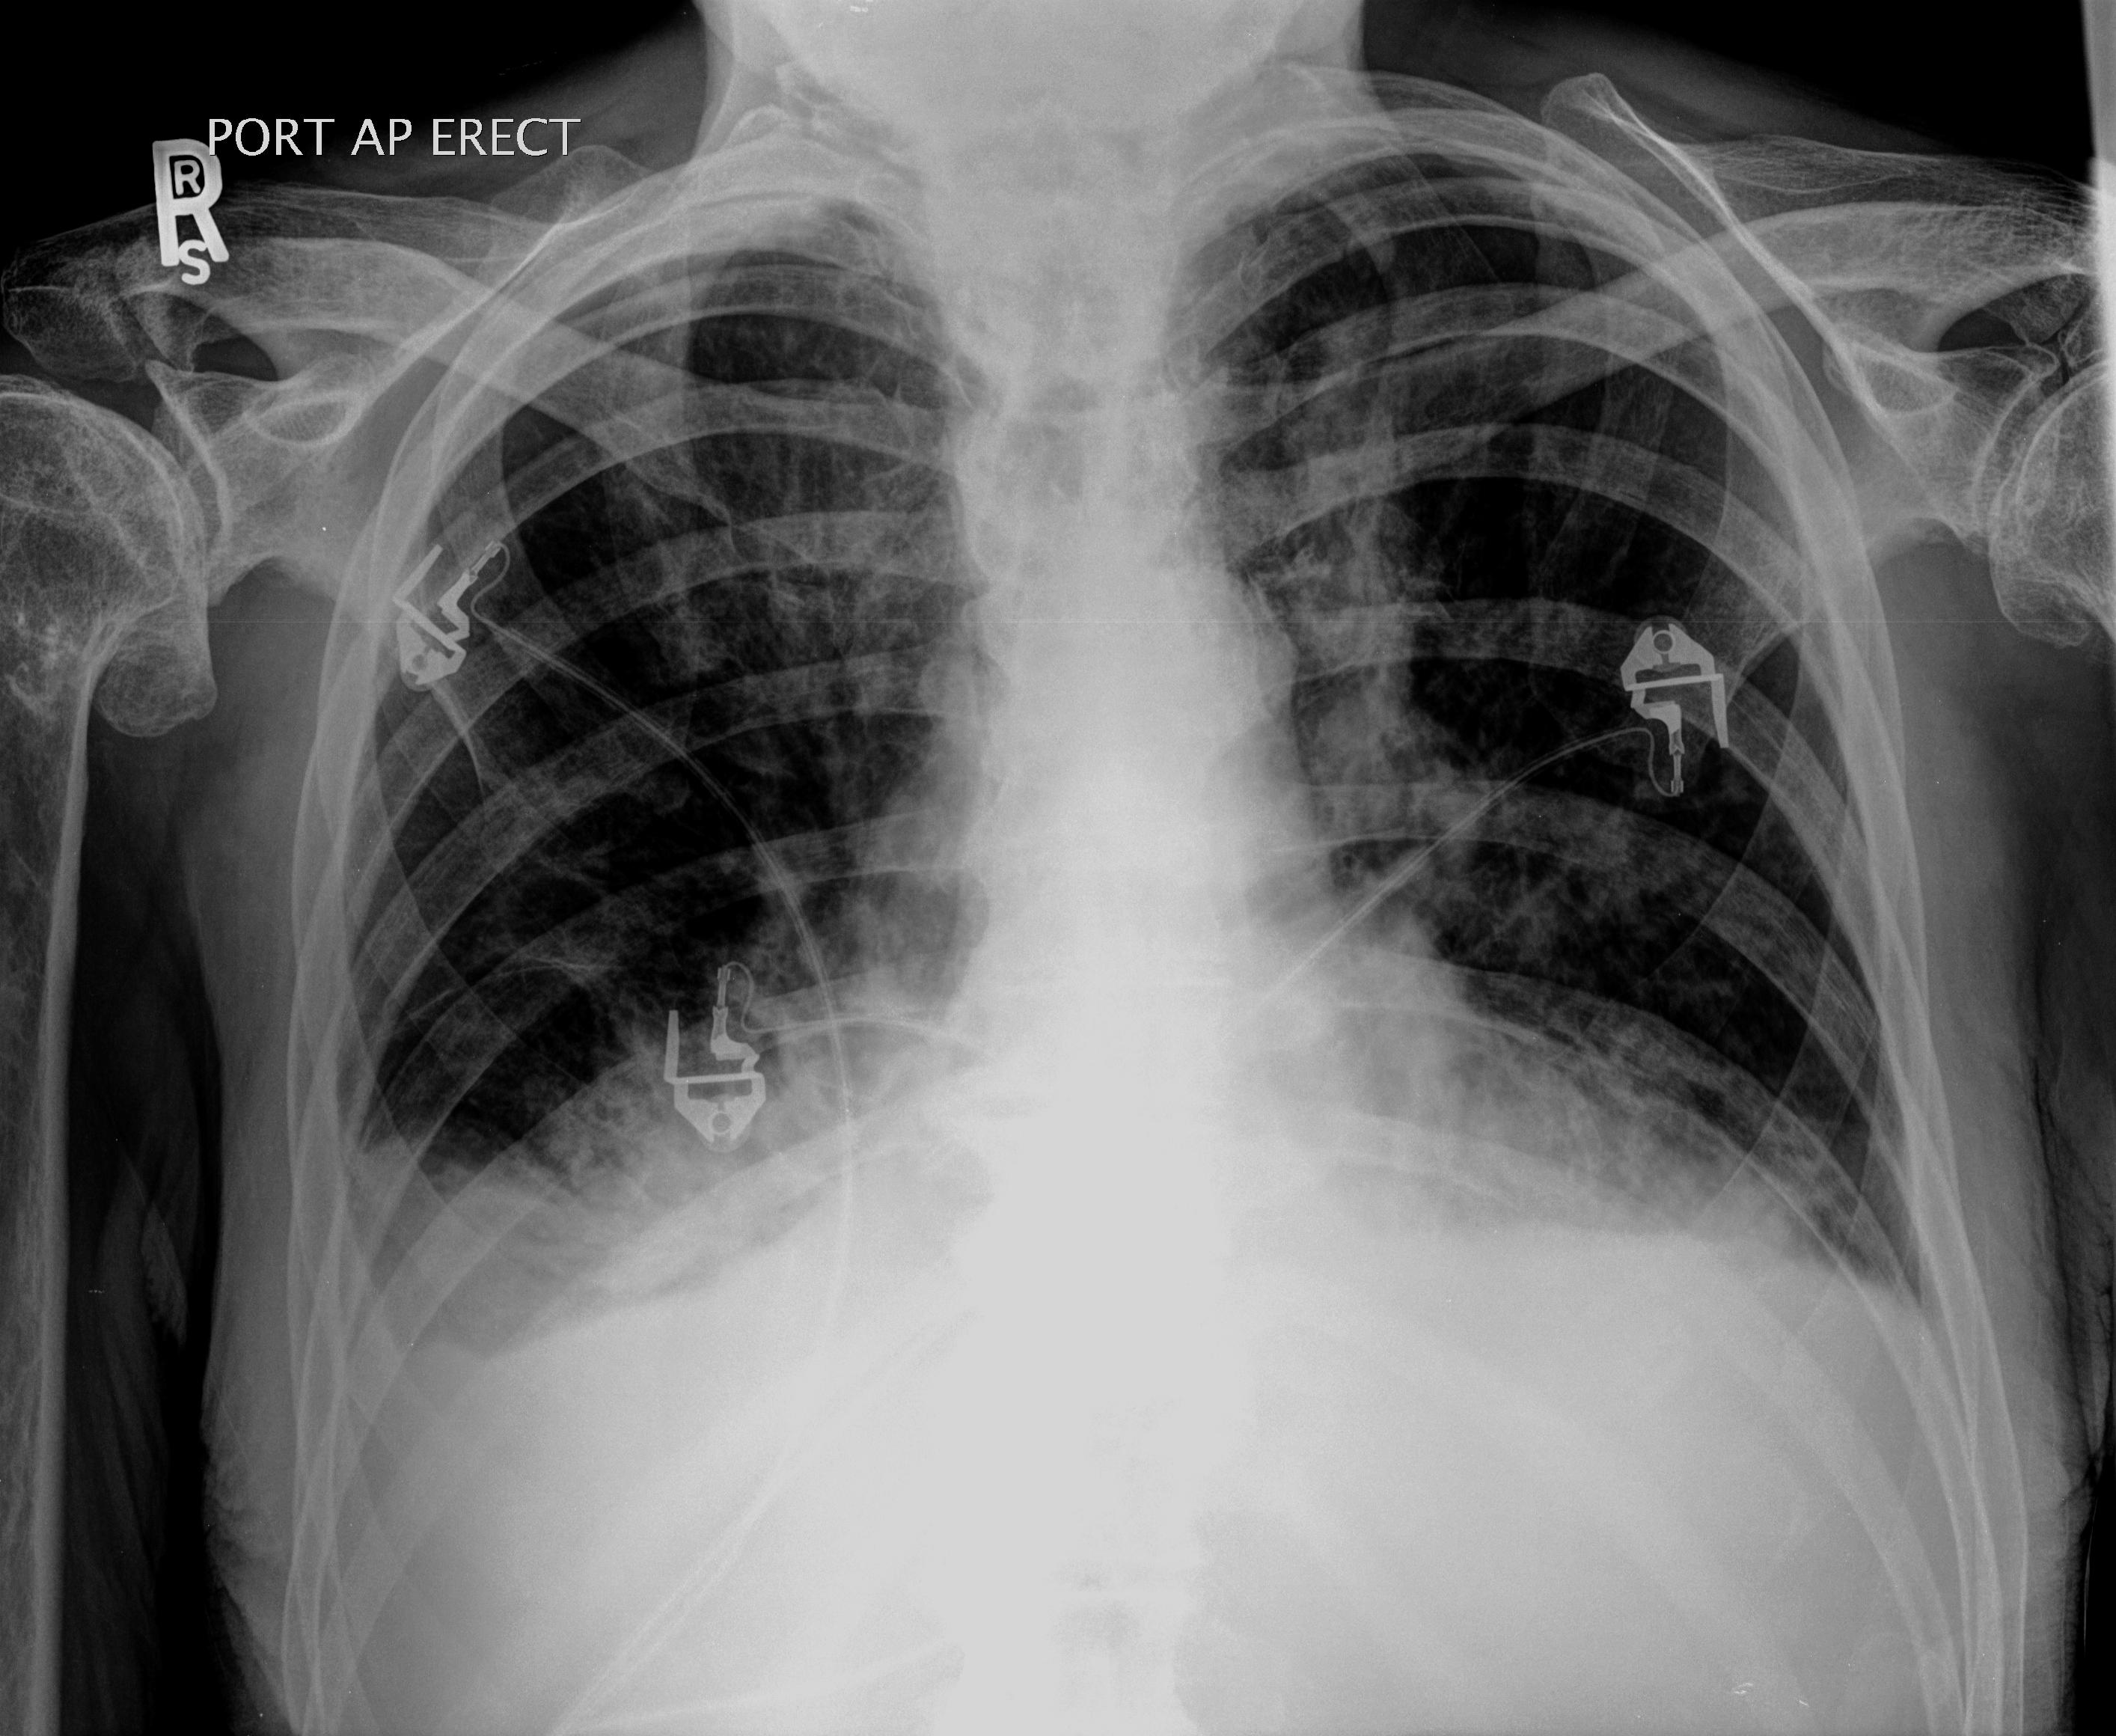Pleural Effusion: (279, 1126, 830, 1527), (1434, 1226, 2007, 1523)
